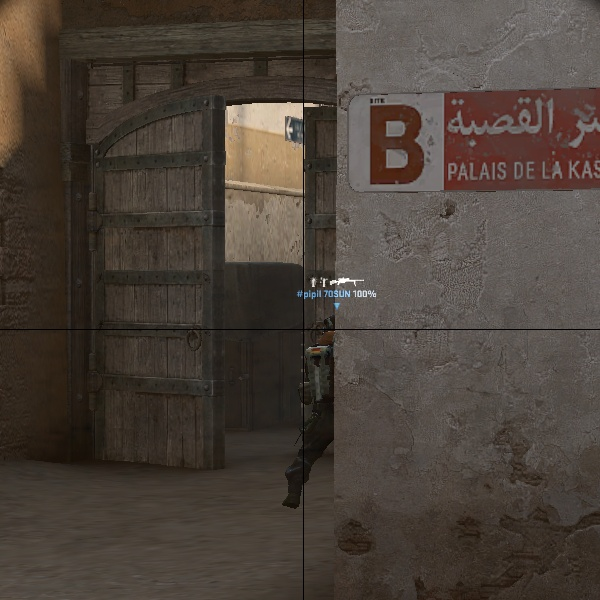ct_body: (272, 315, 337, 510)
ct_head: (305, 315, 342, 353)
